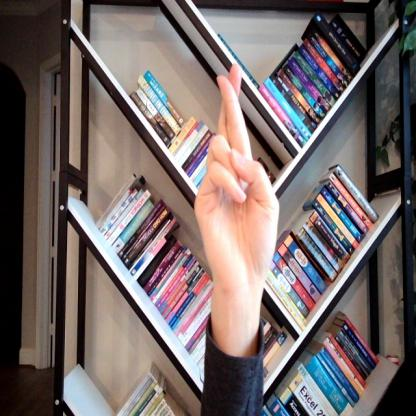right: (192, 59, 281, 303)
